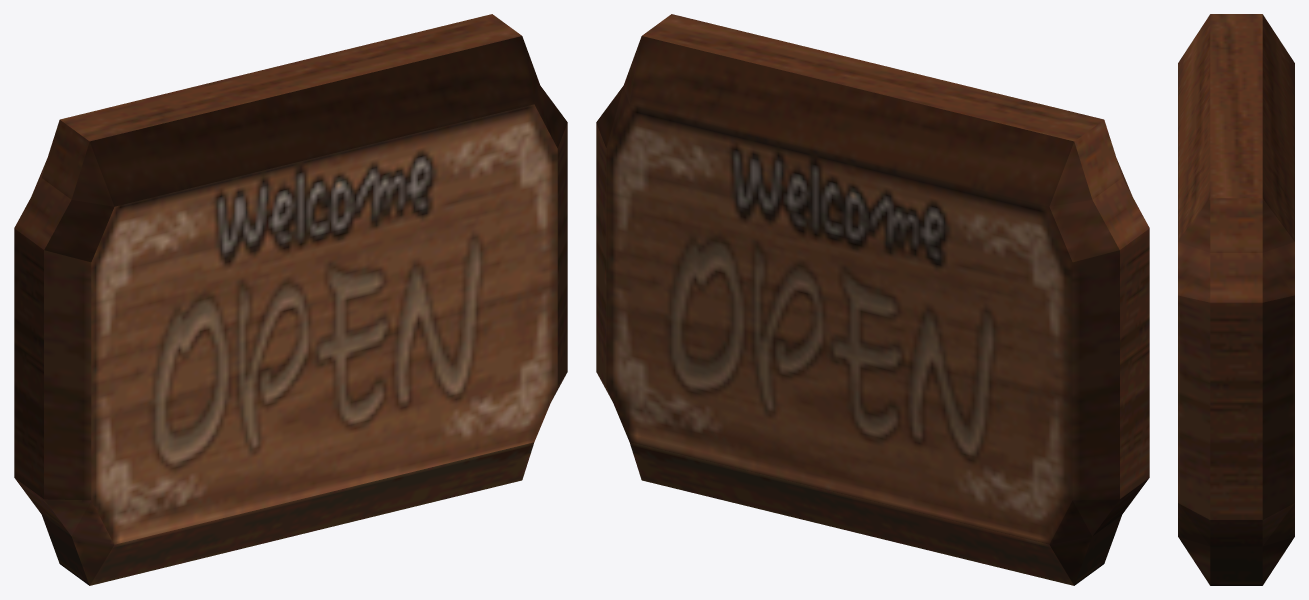
File: icon1.ico.obj
3 views of the same model, side by side, from view 1: azimuth 30°, elevation 25°; view 2: azimuth 150°, elevation 25°; view 3: azimuth 270°, elevation 25° (orthographic). The views are drawn at different scales.
Bounding box in the file's own units: 3.19 × 2.58 × 0.7061.
Materials: 1 (1 with a texture image).
